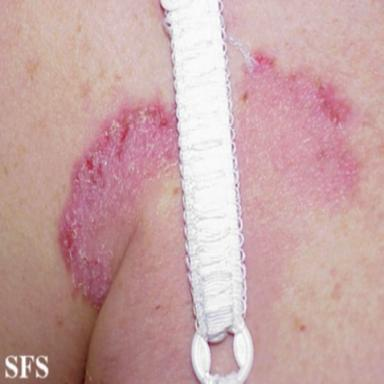Hailey-Hailey-Disease: (55, 95, 178, 312), (233, 50, 362, 208)
